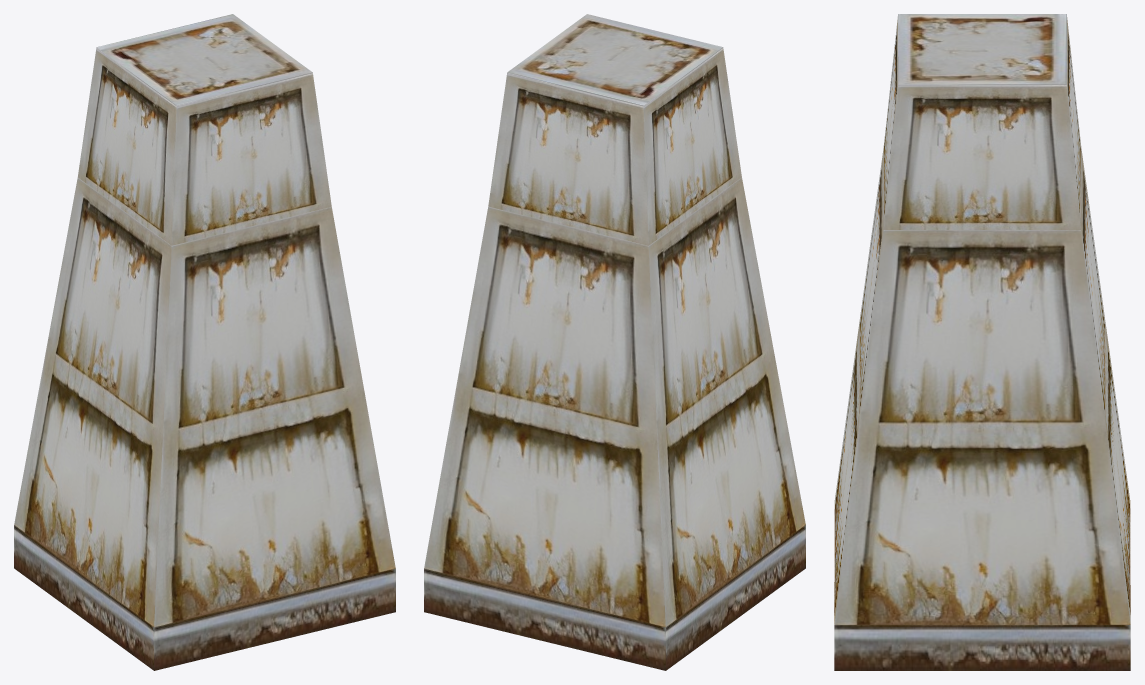
Rendered from d_mediumpost_hdtex.glb.
3 renders of one model, left to right at view 1: azimuth 30°, elevation 25°; view 2: azimuth 150°, elevation 25°; view 3: azimuth 270°, elevation 25°, orthographic. The views are drawn at different scales.
Parts seen in each view (by area): view 1: D_MediumPost; view 2: D_MediumPost; view 3: D_MediumPost.
Part boxes in pixels (x1,y1,x2,y2): D_MediumPost: [14, 14, 395, 670]; D_MediumPost: [424, 14, 805, 670]; D_MediumPost: [834, 14, 1130, 670].
Size of the model in its own units: 5.48 by 11.5 by 5.52.
1 material, 1 textured.
